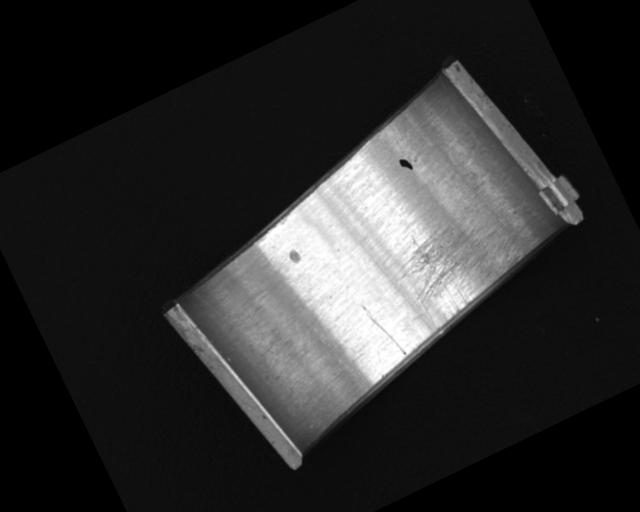blot: (398, 155, 415, 175)
bruise: (286, 247, 302, 265)
nick: (193, 271, 275, 373), (360, 296, 408, 364)
scratch: (385, 199, 537, 338)
